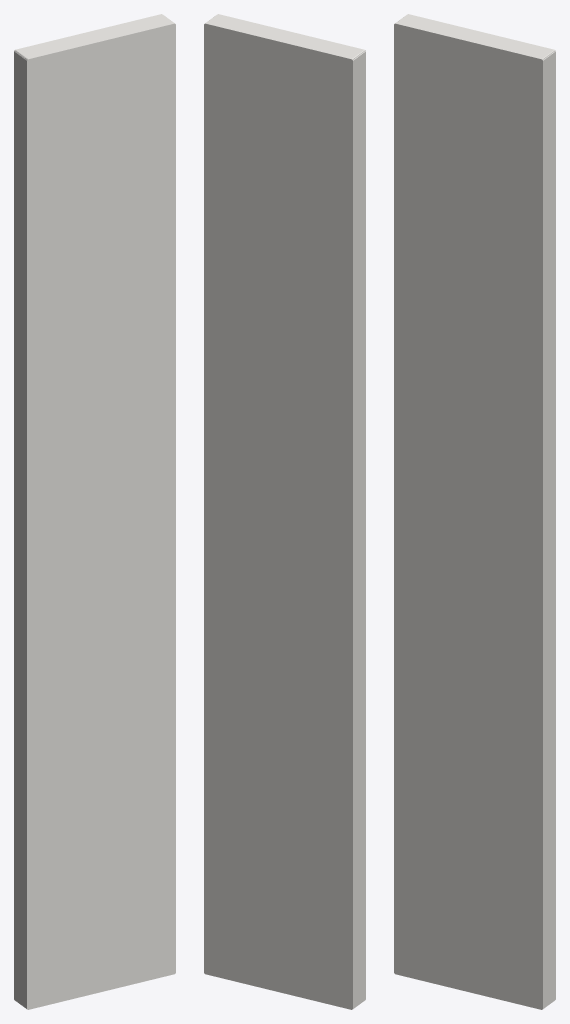
Rendered from three-quarter-filler.glb.
3 views of the same model, side by side, from view 1: azimuth 30°, elevation 25°; view 2: azimuth 150°, elevation 25°; view 3: azimuth 330°, elevation 25° (orthographic).
Visible parts, largest first — view 1: part_0; view 2: part_0; view 3: part_0.
Boxes of the visible parts, <box> form: part_0: <box>14,14,175,1009</box>; part_0: <box>204,14,365,1009</box>; part_0: <box>394,14,555,1009</box>.
Bounding box in the file's own units: 0.127 × 0.7747 × 0.0193.
Materials: 1 (1 with a texture image).
